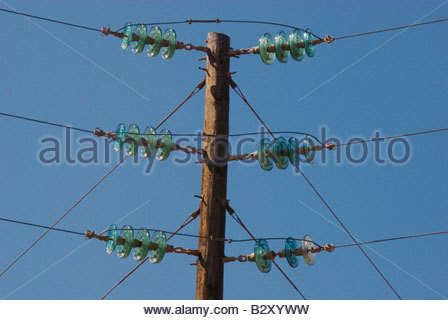gap: (256, 236, 299, 273)
isolator: (104, 224, 167, 263), (112, 122, 173, 161), (255, 235, 317, 272), (119, 22, 177, 61), (258, 133, 316, 172), (258, 28, 316, 65)
